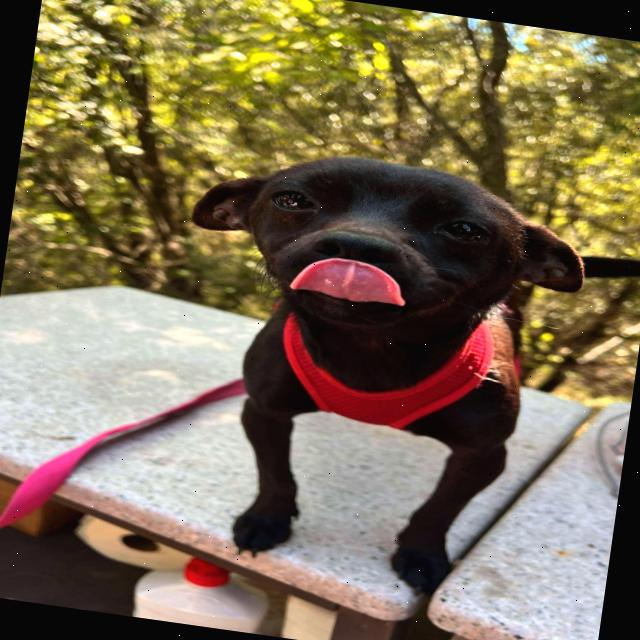chihuahua_dog: (160, 126, 606, 391)
